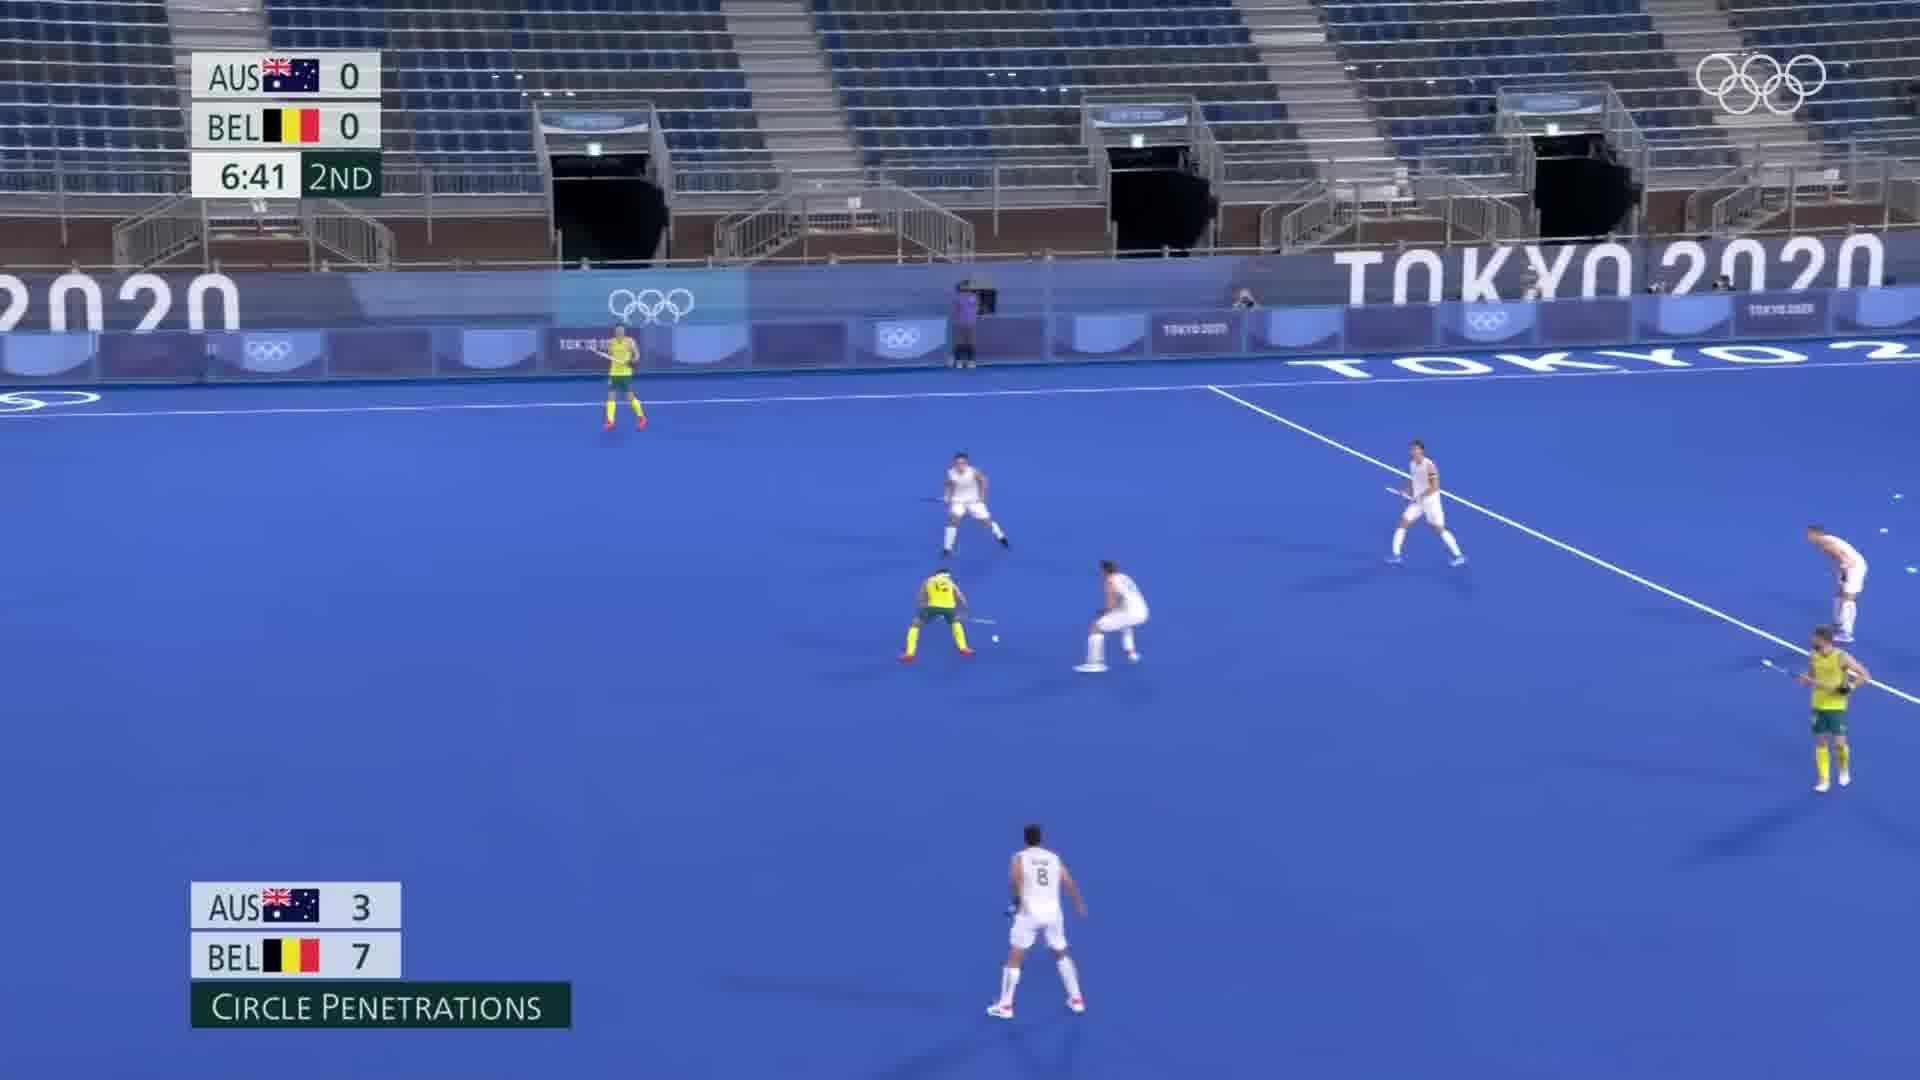ball: (986, 630, 1004, 648)
